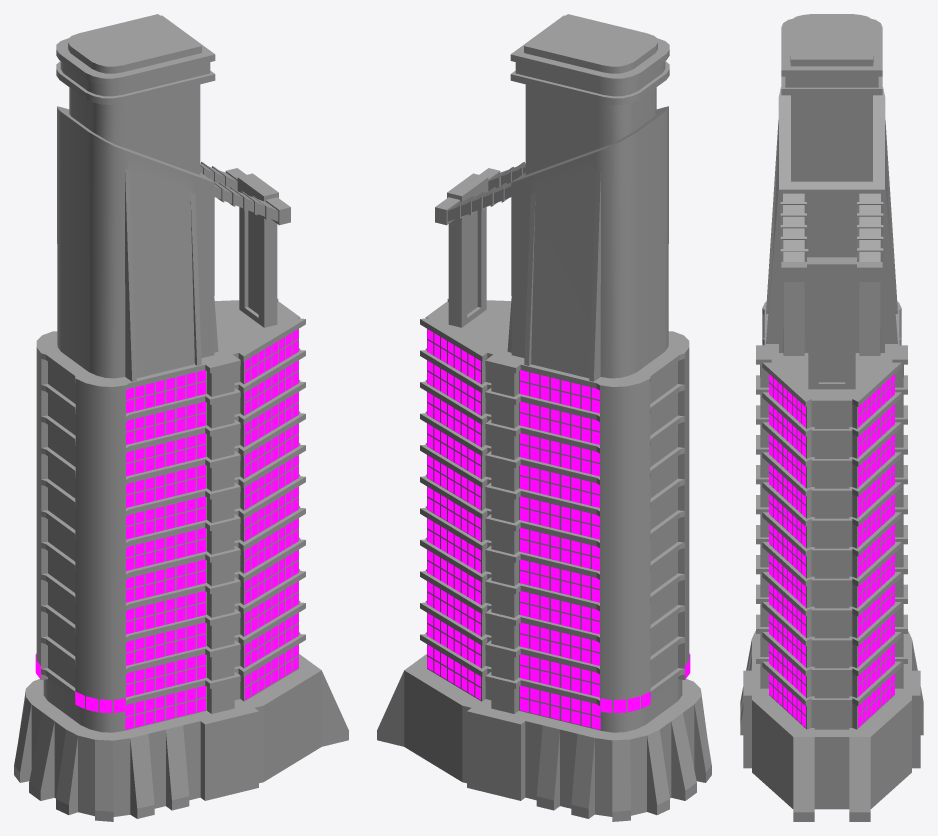
The model's file is Skyscraper_1 (1).fbx.
3 renders of one model, left to right at view 1: azimuth 30°, elevation 25°; view 2: azimuth 150°, elevation 25°; view 3: azimuth 270°, elevation 25°, orthographic. The views are drawn at different scales.
Visible parts, largest first — view 1: Towerlow; view 2: Towerlow; view 3: Towerlow.
Part boxes in pixels (<box>): Towerlow: <box>14,14,348,821</box>; Towerlow: <box>377,14,711,821</box>; Towerlow: <box>740,14,923,821</box>.
Bounding box in the file's own units: 3.8 × 9.05 × 2.17.
